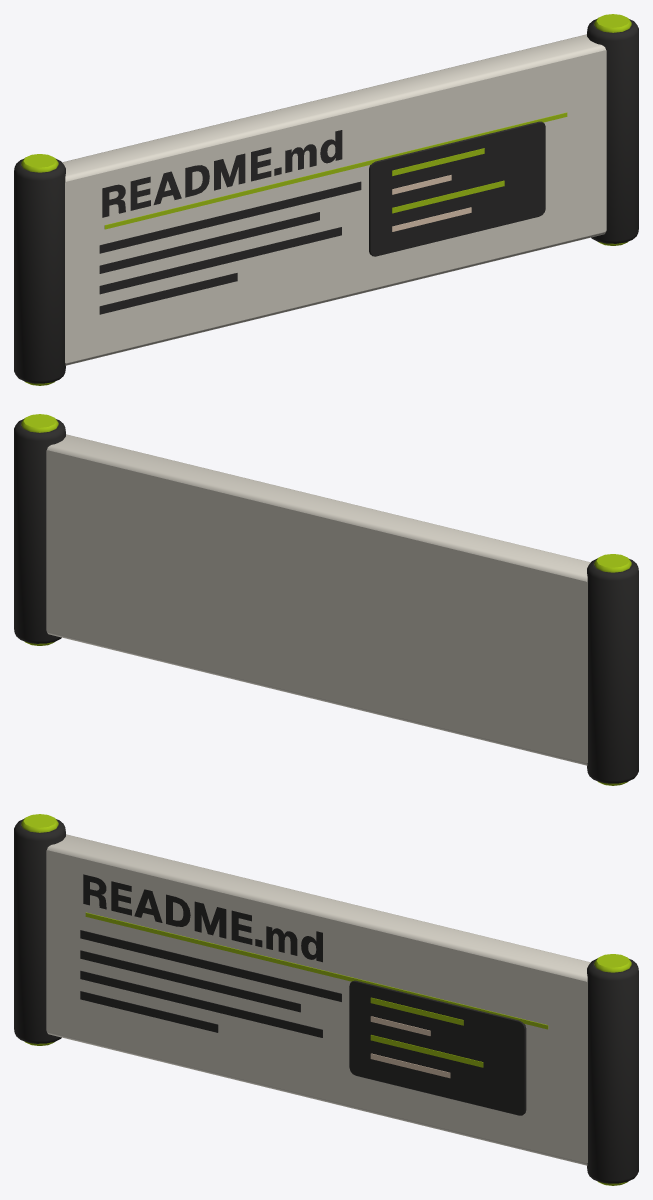
Rendered from readme-slab.glb.
The picture shows the model from 3 angles, top to bottom: view 1: azimuth 30°, elevation 25°; view 2: azimuth 150°, elevation 25°; view 3: azimuth 330°, elevation 25°; orthographic projection.
Parts seen in each view (by area): view 1: readme-slab; view 2: readme-slab; view 3: readme-slab.
Boxes of the visible parts, box(x1,y1,x2,y2) form: readme-slab: box(14, 14, 638, 385); readme-slab: box(14, 414, 638, 785); readme-slab: box(14, 814, 638, 1185).
Bounding box in the file's own units: 1.91 × 0.6441 × 0.1399.
